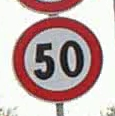limite 50: (10, 15, 104, 102)
